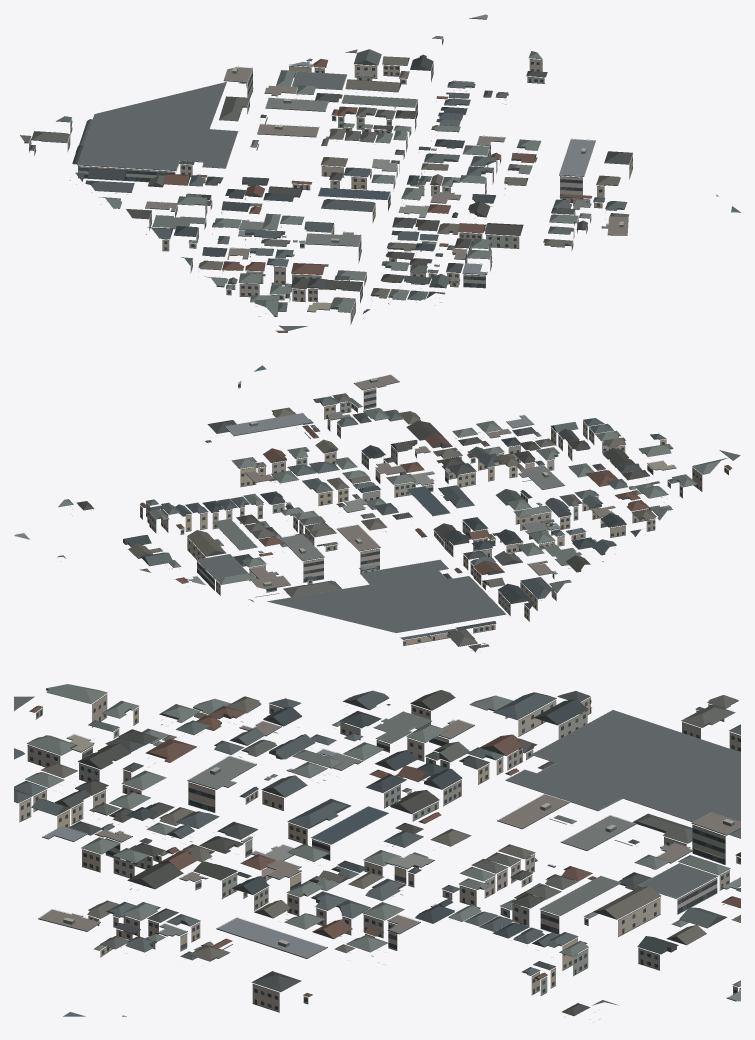
3 renders of one model, top to bottom at view 1: azimuth 30°, elevation 25°; view 2: azimuth 150°, elevation 25°; view 3: azimuth 270°, elevation 25°, orthographic. The views are drawn at different scales.
Parts seen in each view (by area): view 1: r3-c1; view 2: r3-c1; view 3: r3-c1.
Part boxes in pixels (x1,y1,x2,y2): r3-c1: [20, 14, 740, 332]; r3-c1: [14, 365, 740, 652]; r3-c1: [14, 684, 740, 1022].
Size of the model in its own units: 250 by 17.17 by 250.
